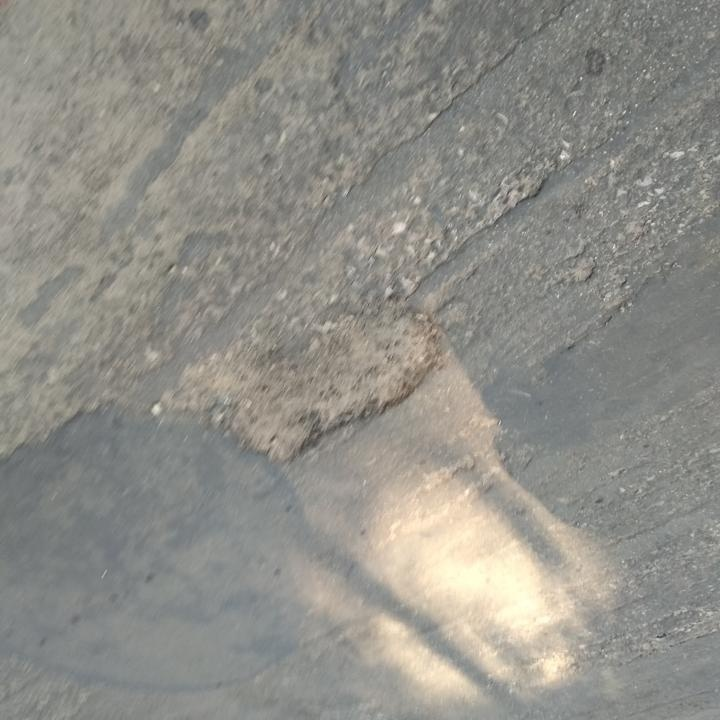pothole: (151, 298, 438, 467)
